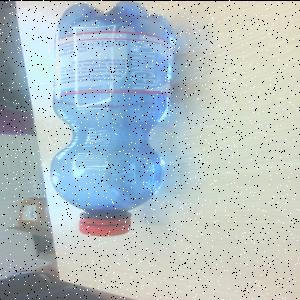Plastic-bottle: (51, 1, 177, 237)
